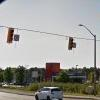Traffic light: (63, 29, 79, 63)
